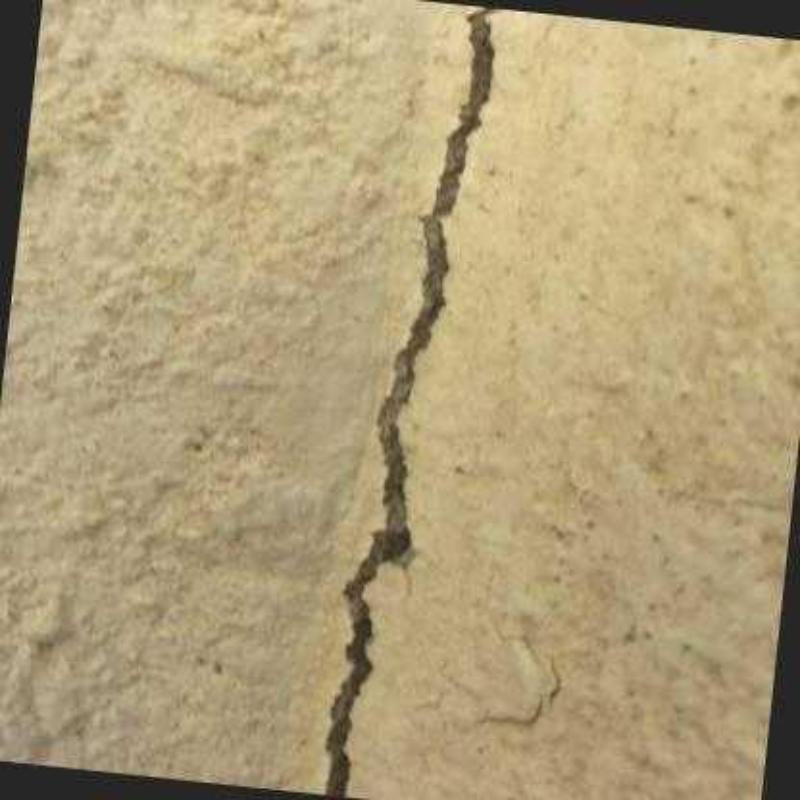crack: (323, 7, 500, 797)
